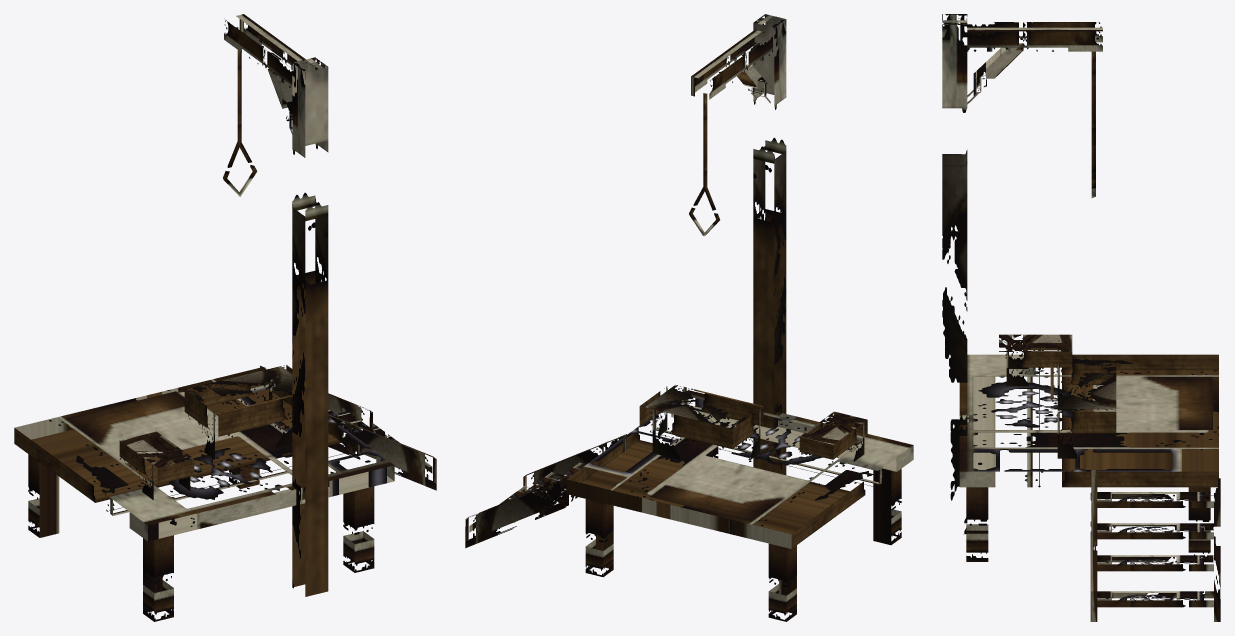
The model's file is Hanging01.obj.
3 renders of one model, left to right at view 1: azimuth 30°, elevation 25°; view 2: azimuth 150°, elevation 25°; view 3: azimuth 270°, elevation 25°, orthographic. The views are drawn at different scales.
Visible parts, largest first — view 1: Mesh_0; view 2: Mesh_0; view 3: Mesh_0.
Part boxes in pixels (x1,y1,x2,y2): Mesh_0: (14,14,436,621); Mesh_0: (465,14,913,621); Mesh_0: (942,14,1220,621).
Bounding box in the file's own units: 3.01 × 4.24 × 2.1.
1 material, 1 textured.
